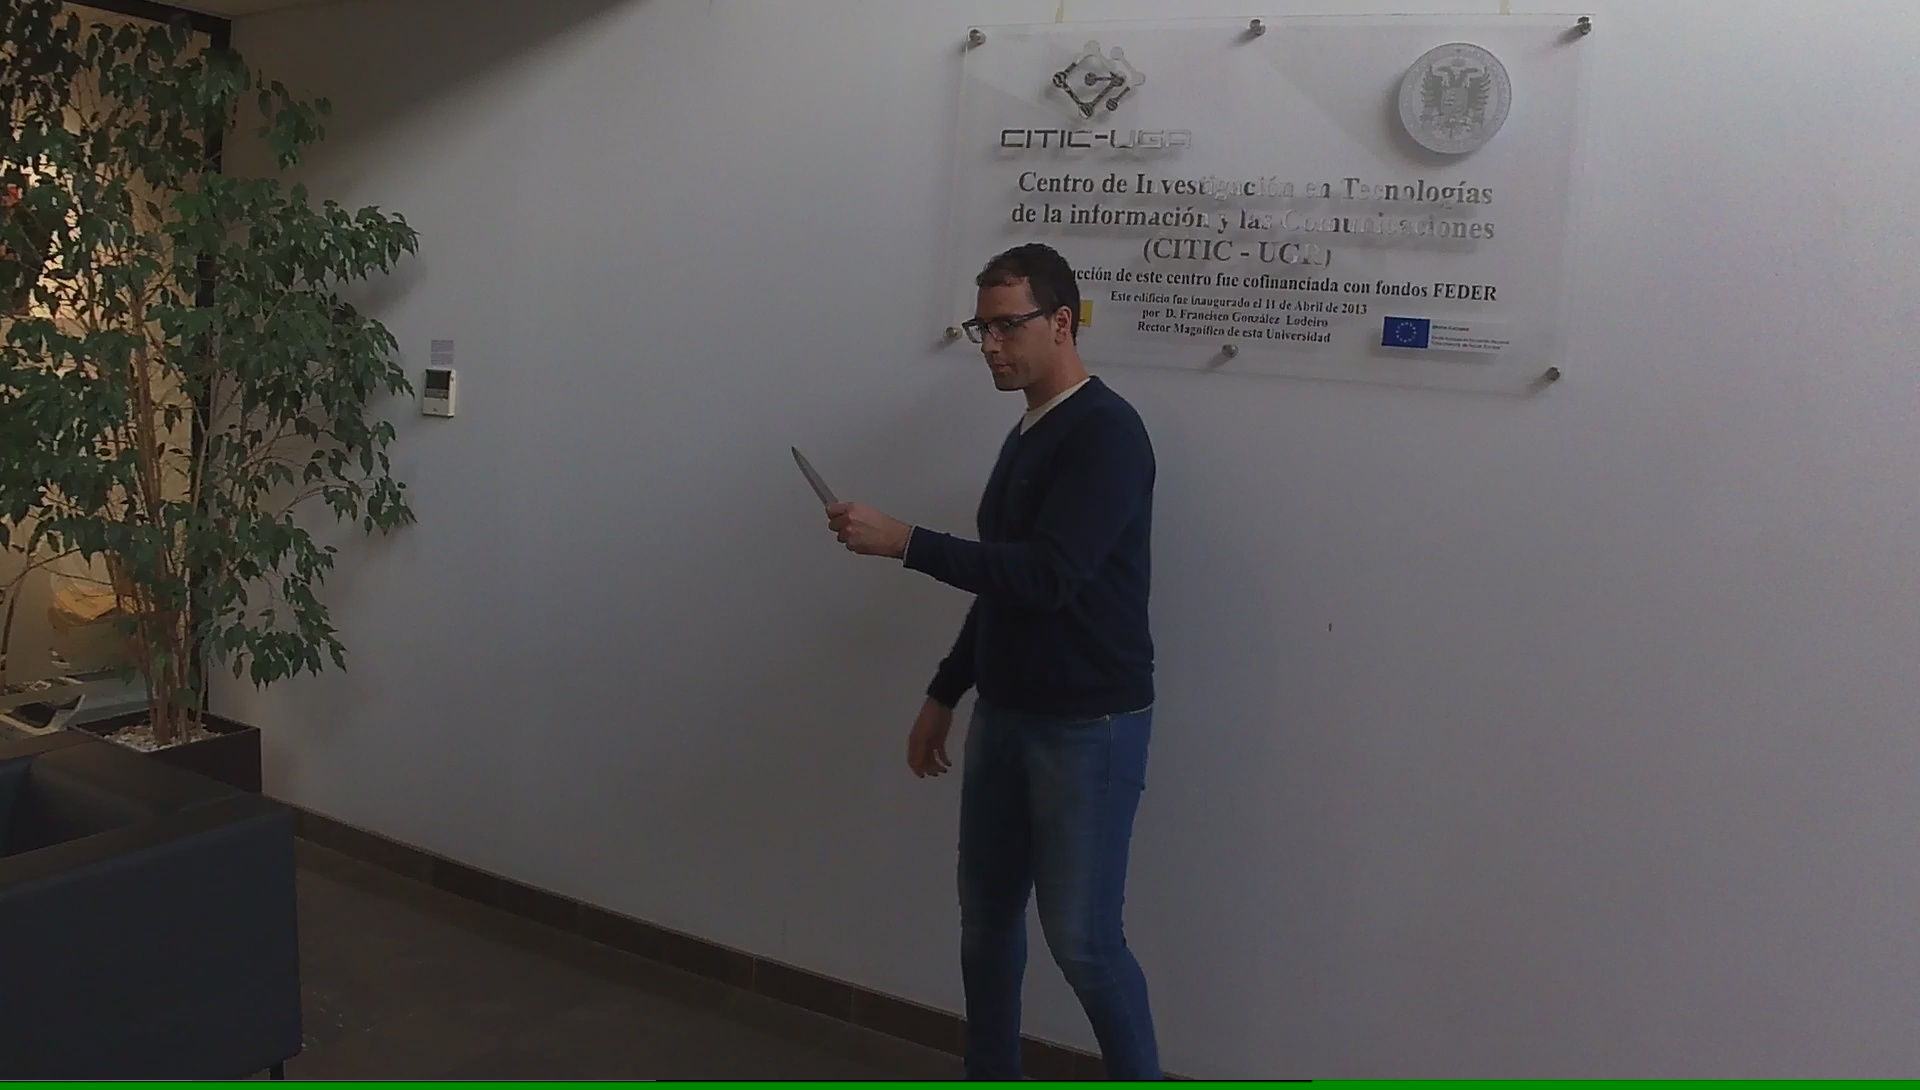knife: (783, 436, 865, 554)
